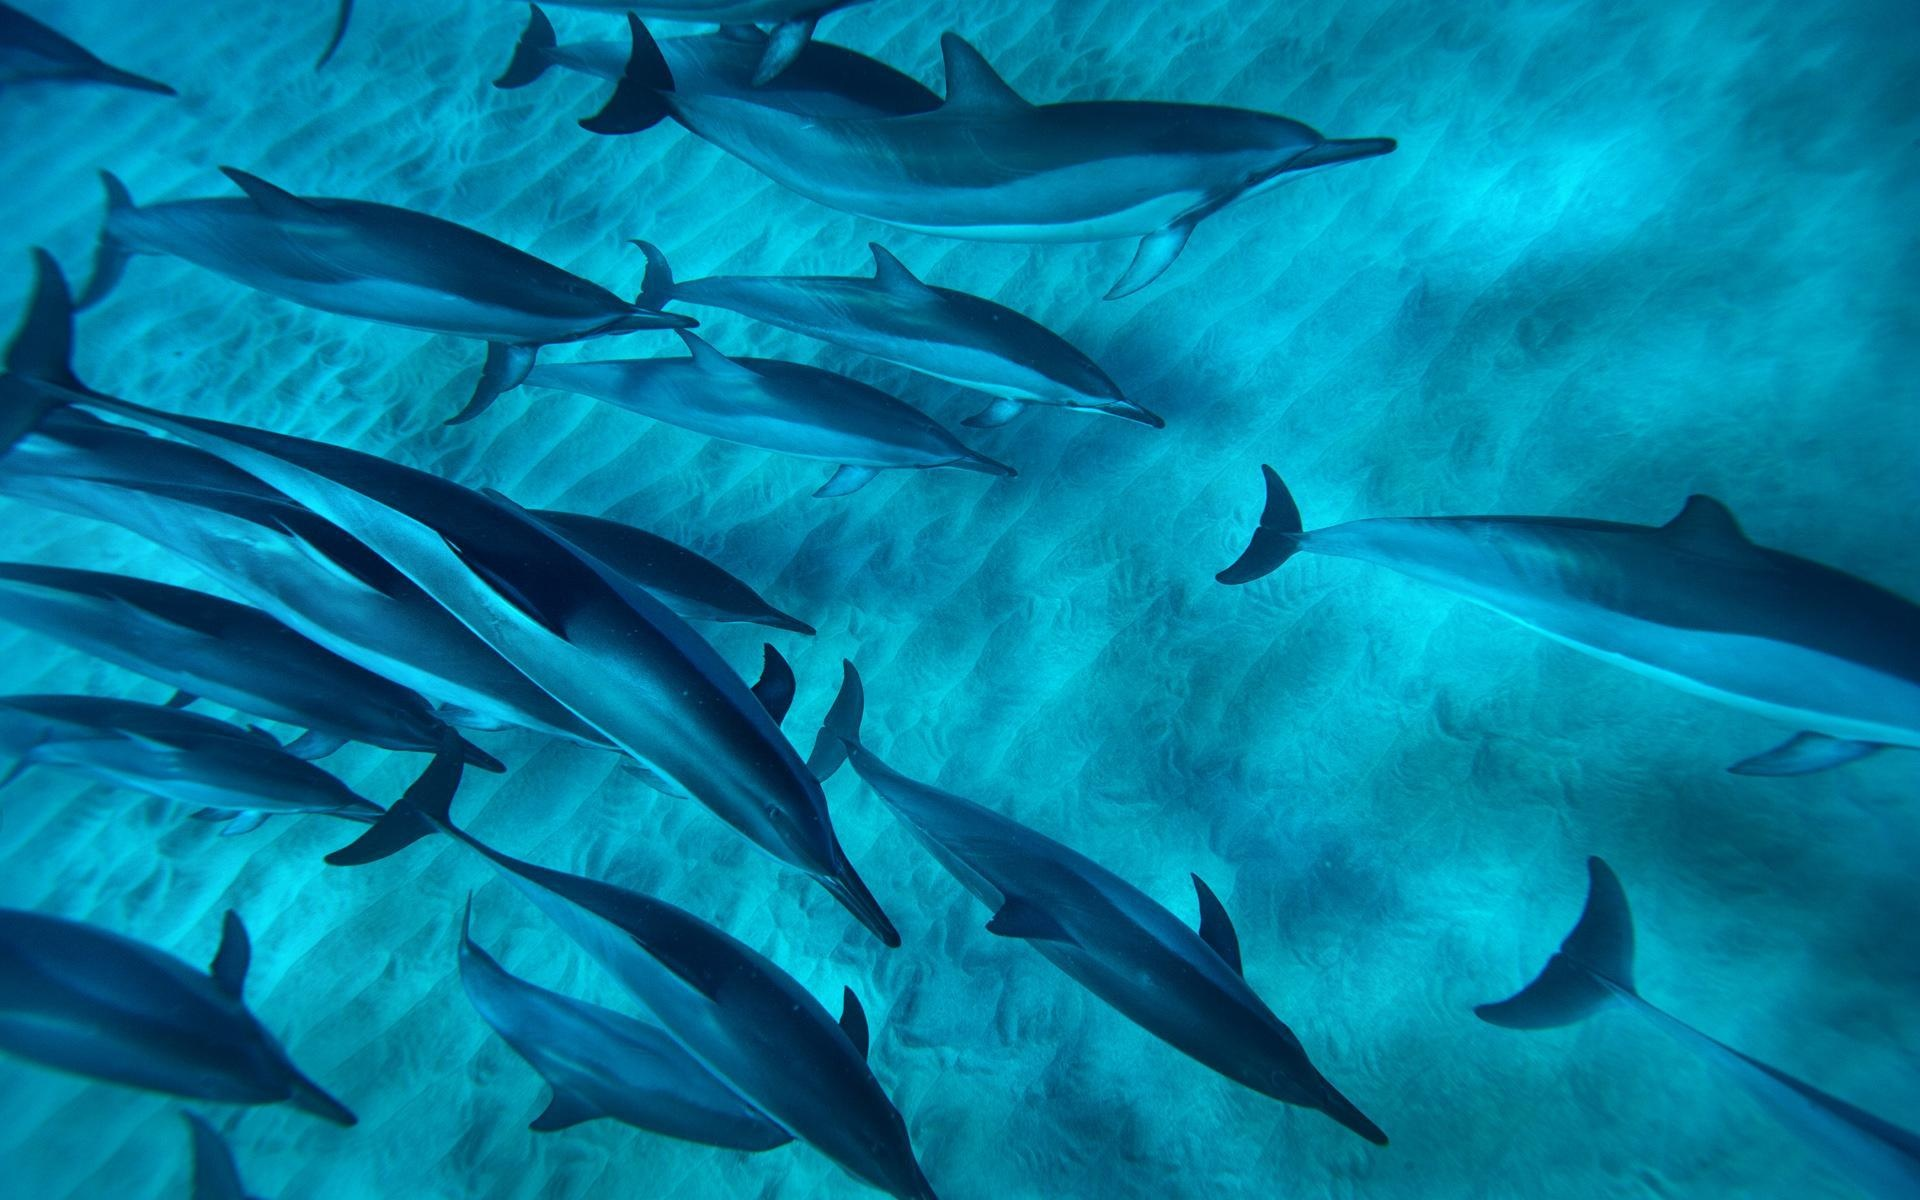fish: (1, 246, 916, 948), (319, 727, 975, 1200), (798, 669, 1422, 1159), (1210, 437, 1920, 800), (583, 7, 1402, 207), (1464, 847, 1920, 1199), (53, 153, 698, 391), (1, 552, 520, 784), (628, 229, 1167, 438), (434, 889, 832, 1168), (440, 328, 1022, 513), (1, 888, 369, 1123), (458, 6, 961, 134), (500, 505, 818, 646)
